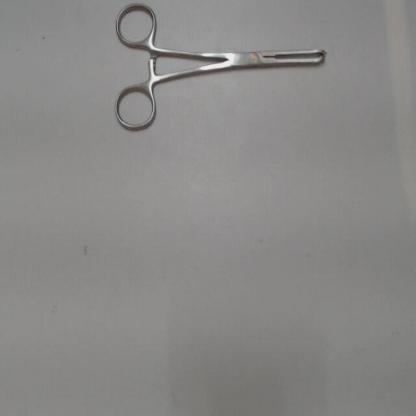Allis Tissue Forceps: (106, 1, 337, 143)
